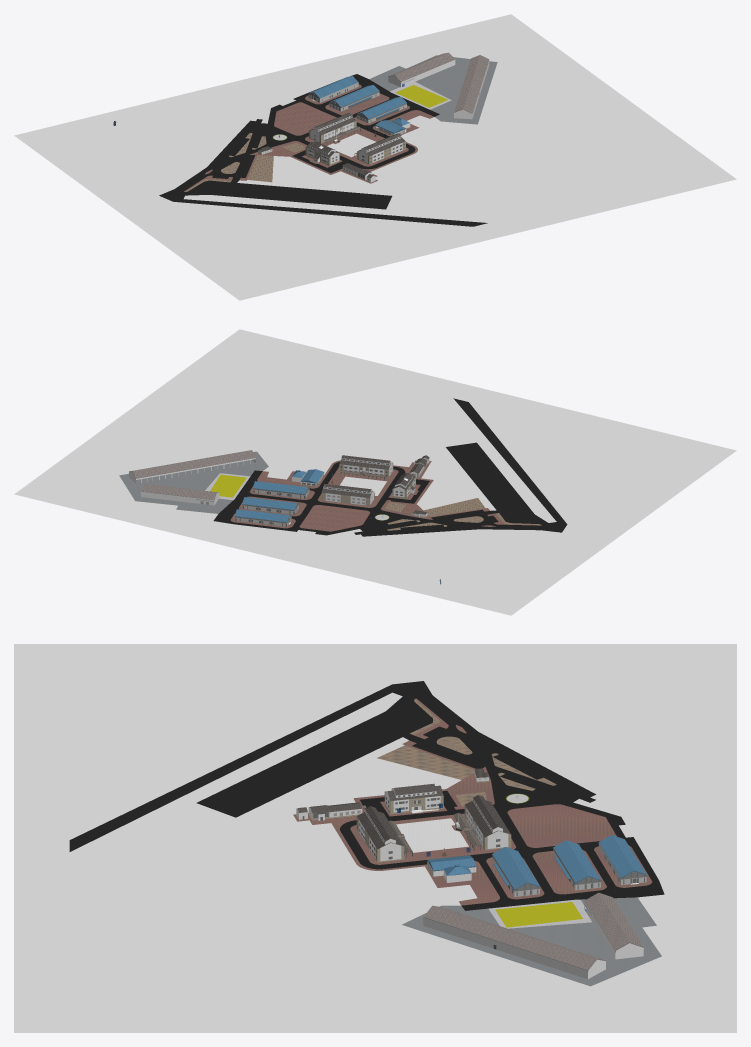
The model's file is campus.glb.
The picture shows the model from 3 angles, top to bottom: view 1: azimuth 30°, elevation 25°; view 2: azimuth 150°, elevation 25°; view 3: azimuth 270°, elevation 25°; orthographic projection. The views are drawn at different scales.
Visible parts, largest first — view 1: Mesh471 Model_85; view 2: Mesh471 Model_85; view 3: Mesh471 Model_85.
Boxes of the visible parts, left/top/right/bottom form: Mesh471 Model_85: left=14, top=14, right=736, bottom=300; Mesh471 Model_85: left=14, top=329, right=736, bottom=615; Mesh471 Model_85: left=14, top=644, right=736, bottom=1032.
Size of the model in its own units: 269 by 7.13 by 211.
Materials: 42 (30 with a texture image).
